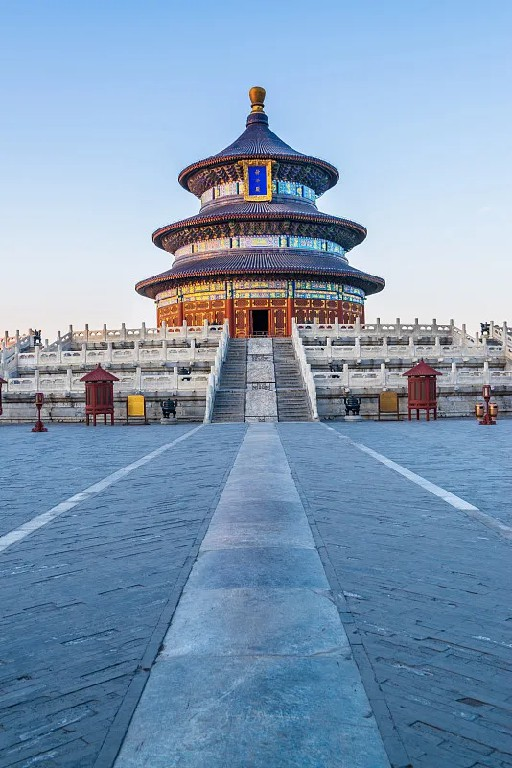Heaven: (132, 85, 387, 337)
